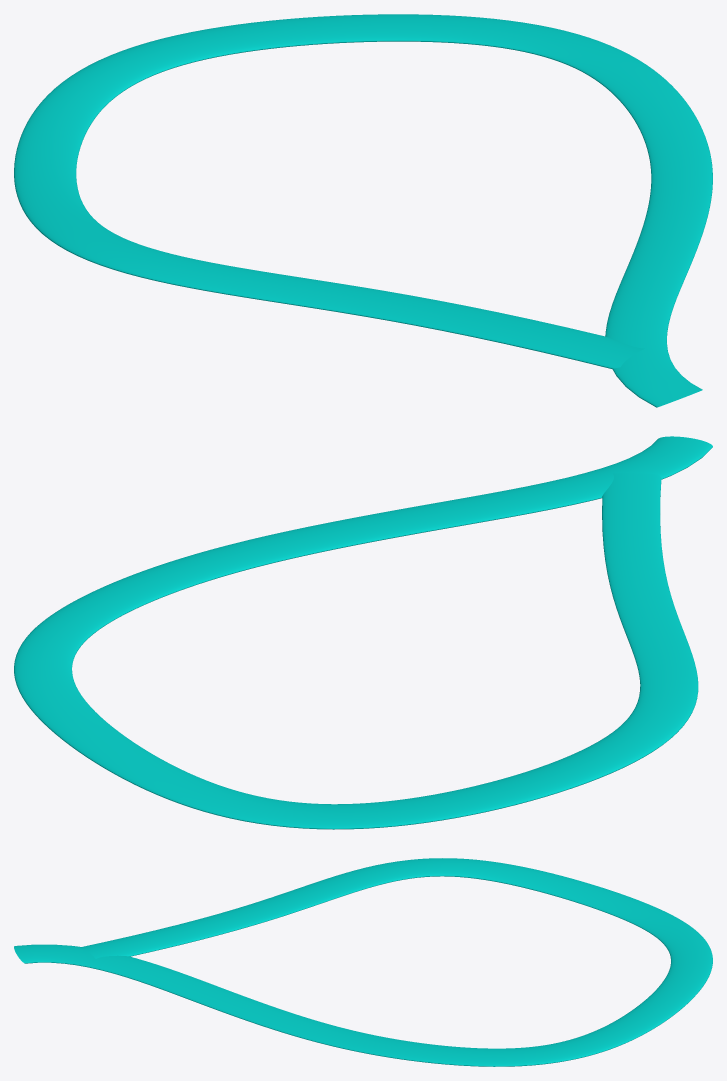
The model's file is car_circle01.dae.
The picture shows the model from 3 angles, top to bottom: view 1: azimuth 30°, elevation 25°; view 2: azimuth 150°, elevation 25°; view 3: azimuth 270°, elevation 25°; orthographic projection. The views are drawn at different scales.
Parts seen in each view (by area): view 1: NurbsPath; view 2: NurbsPath; view 3: NurbsPath.
Part boxes in pixels (x1=…): NurbsPath: x1=14, y1=14, x2=712, y2=407; NurbsPath: x1=14, y1=436, x2=712, y2=829; NurbsPath: x1=14, y1=858, x2=712, y2=1066.
Bounding box in the file's own units: 20.16 × 28.77 × 0.7771.
